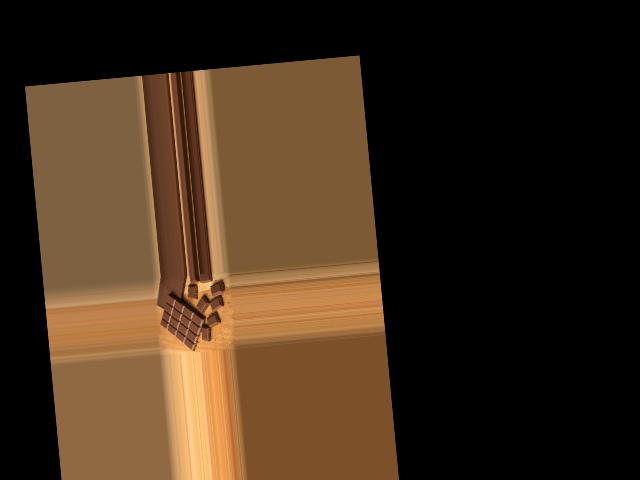chocolate: (157, 290, 210, 352)
